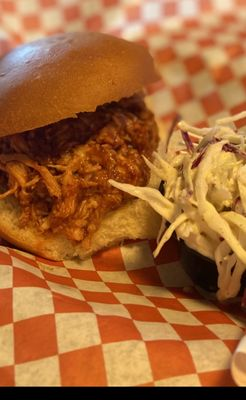soup: (0, 29, 246, 307), (1, 31, 173, 262)
